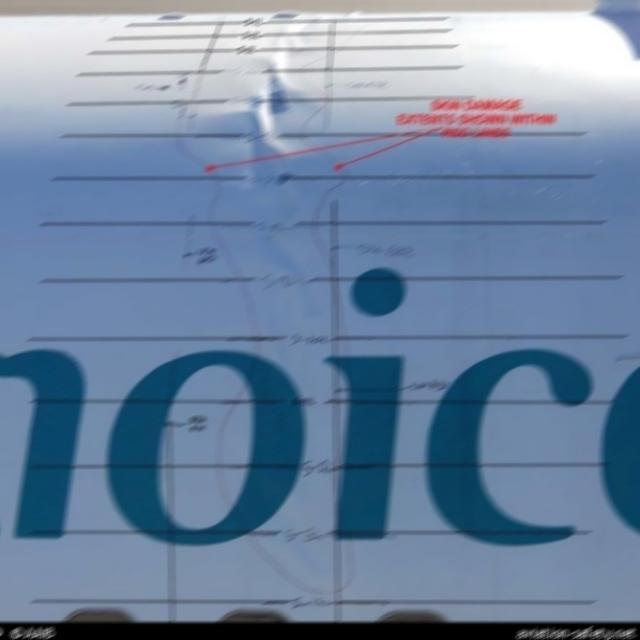dent: (227, 18, 332, 599)
